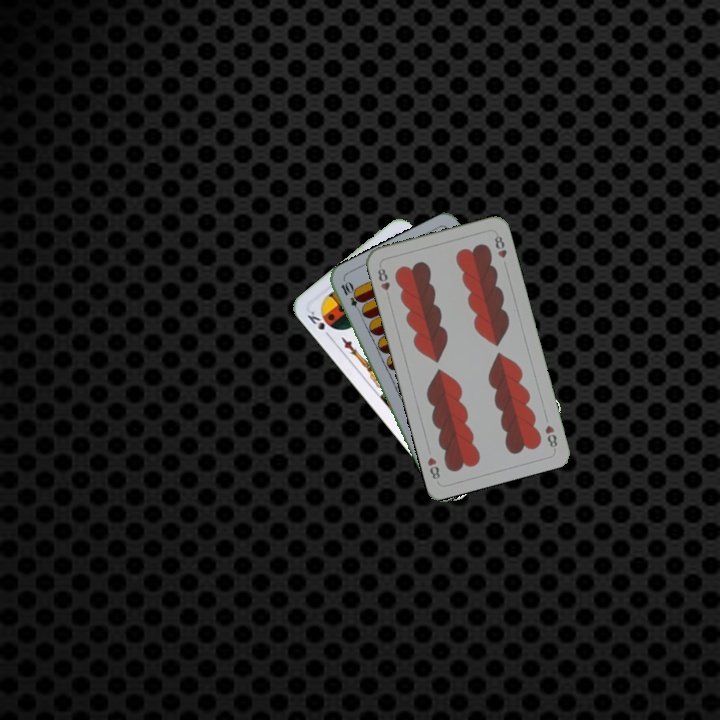E10: (337, 278, 365, 316)
H8: (541, 421, 560, 452), (374, 264, 392, 293)
SK: (303, 307, 334, 341)
